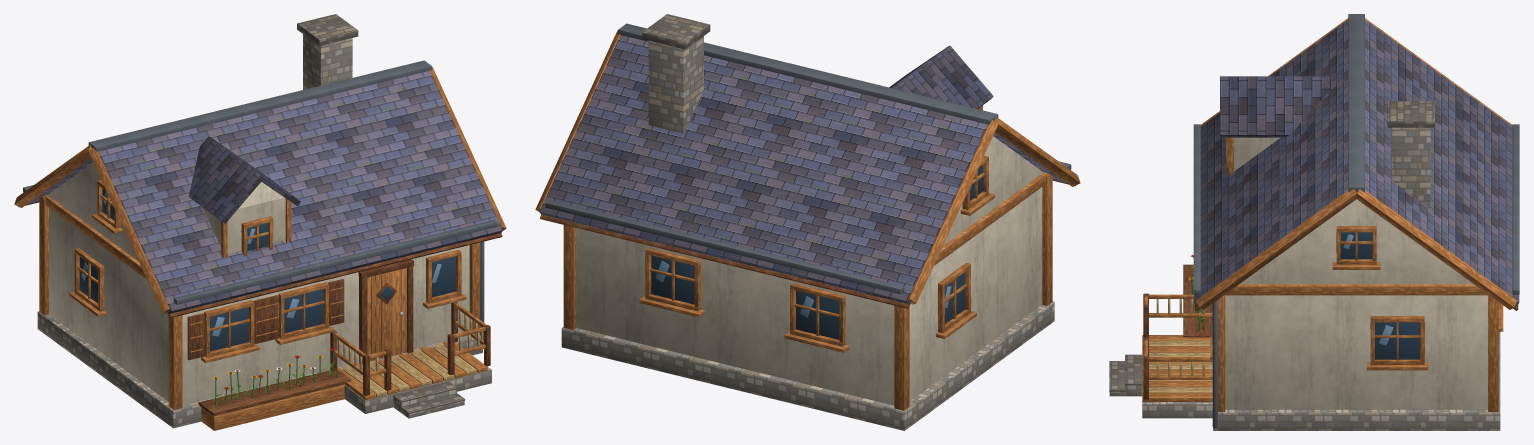
Rendered from casa.gltf.
The picture shows the model from 3 angles, left to right: view 1: azimuth 30°, elevation 25°; view 2: azimuth 150°, elevation 25°; view 3: azimuth 270°, elevation 25°; orthographic projection. The views are drawn at different scales.
Parts seen in each view (by area): view 1: casa; view 2: casa; view 3: casa.
Boxes of the visible parts, x1,y1,x2,y2 form: casa: (14, 14, 506, 430); casa: (535, 14, 1080, 430); casa: (1109, 14, 1519, 430).
Bounding box in the file's own units: 9.21 × 6.98 × 9.01.
Materials: 20 (18 with a texture image).
